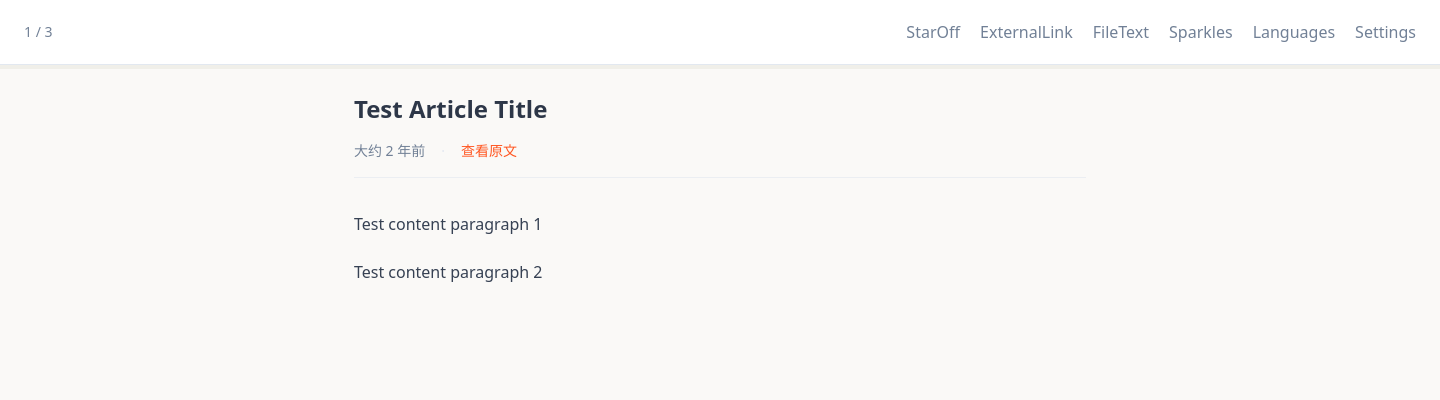
it: ArticleViewer › AI summary card › should collapse and expand AI summary card
Click the button titled "生成 AI 摘要" at (1201, 32), box [1161,12,1241,52]
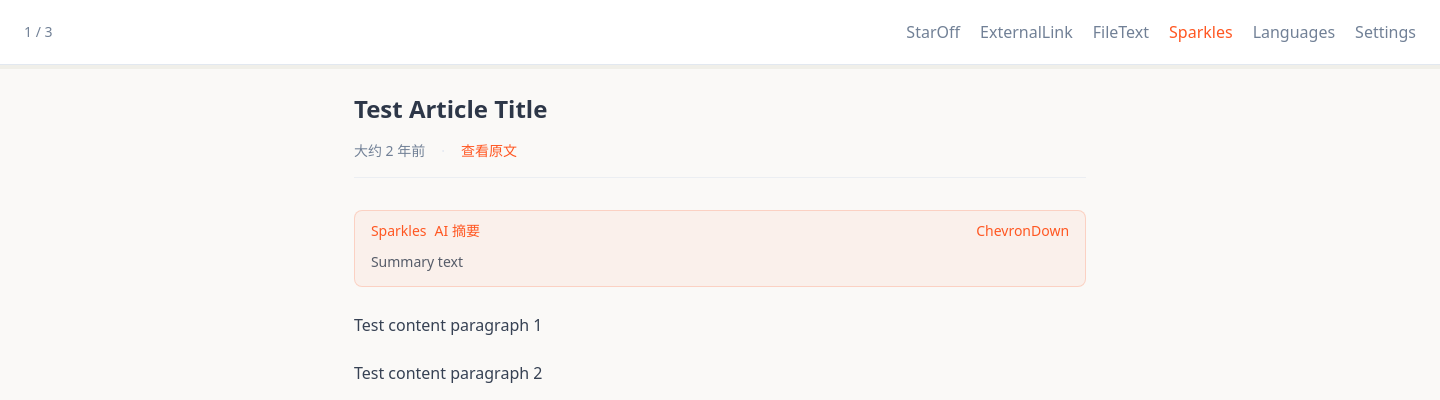
Check: the text "Summary text" is shown, box [371,252,463,271]
Note: Click the collapse button (the AI 摘要 header)
Click the button "Sparkles AI 摘要 ChevronDown" at (399, 230), box [355,211,1085,251]
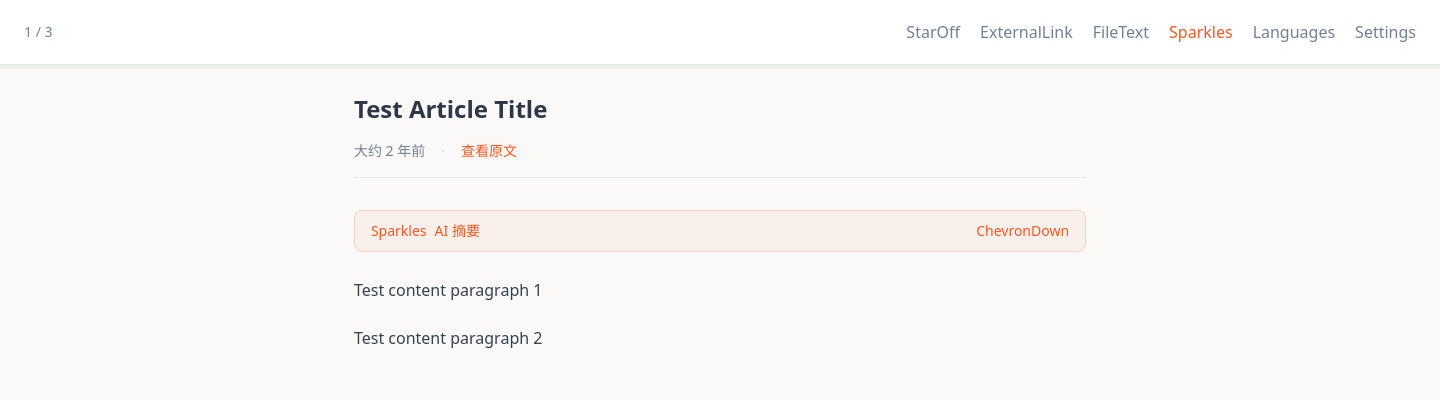
Check: the text with test id "ai-summary-content" is gone
Note: Expand again
Click the button "Sparkles AI 摘要 ChevronDown" at (399, 230), box [355,211,1085,251]
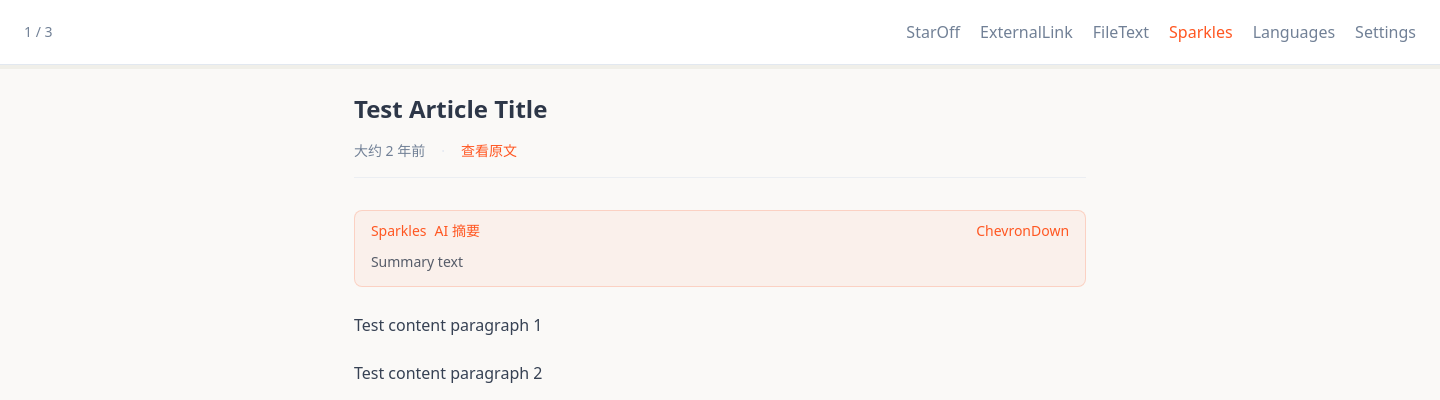
Check: the text "Summary text" is shown, box [371,252,463,271]
